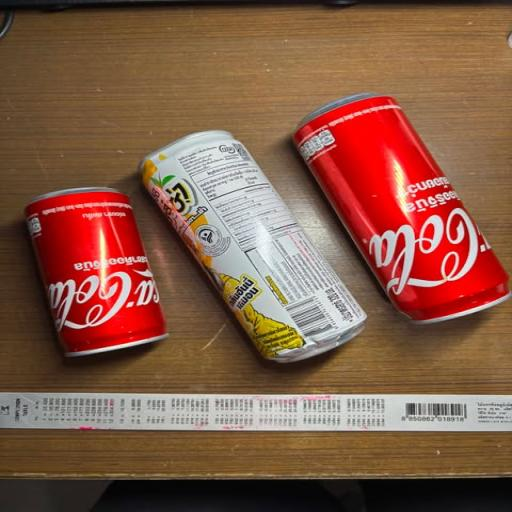canned: (6, 62, 512, 384), (109, 100, 400, 372), (279, 62, 510, 327), (11, 177, 175, 378)
